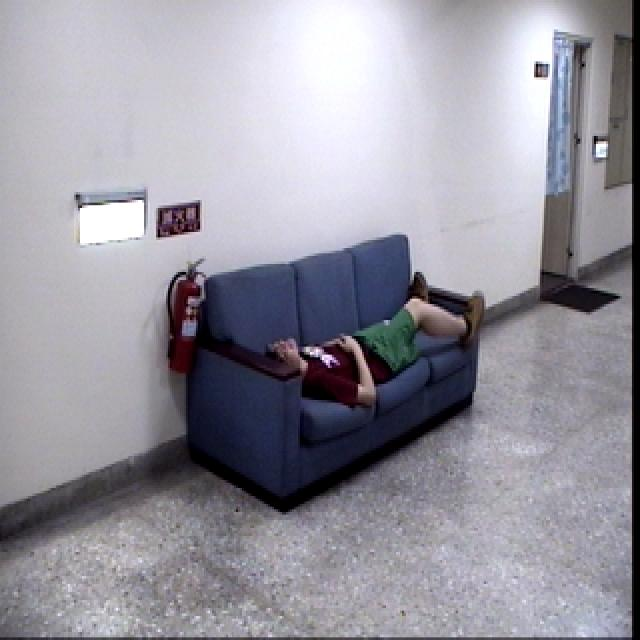lie: (262, 264, 490, 413)
